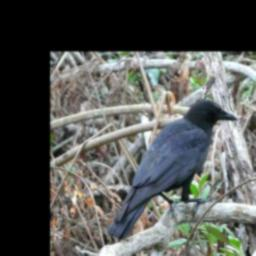Crow: (106, 98, 240, 244)
